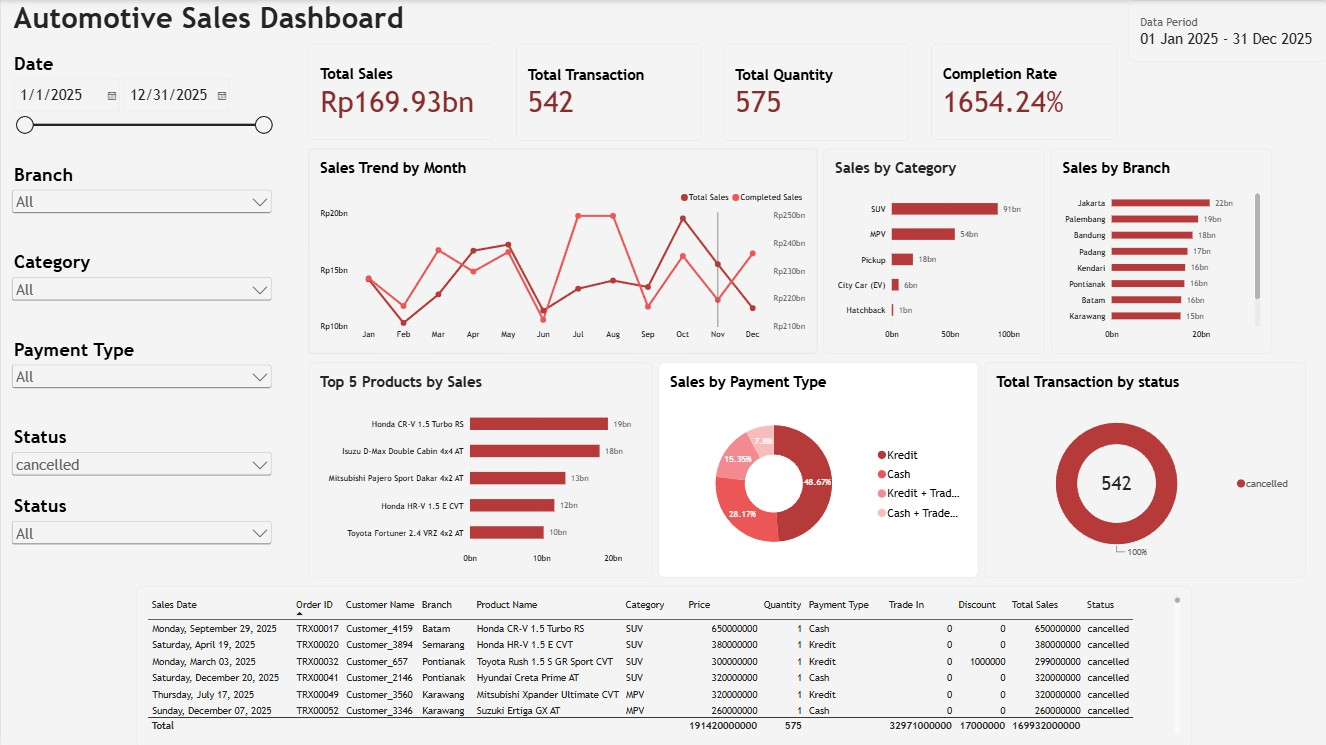

What the dashboard file says about the page in this screenshot:
{"tool":"powerbi","page":{"name":"Page 1","canvas":[1920,1080],"ordinal":0},"visuals":[{"type":"cardVisual","fields":{"Data":["_Measures.Total Sales"]},"box":[445.2,63.3,269.6,139.3],"z":0},{"type":"cardVisual","fields":{"Data":["_Measures.Total Quantity"]},"box":[1046,63.3,269.6,141.2],"z":1000},{"type":"cardVisual","fields":{"Data":["_Measures.Completion Rate"]},"box":[1346.4,63.3,269.6,139.3],"z":2000},{"type":"cardVisual","fields":{"Data":["_Measures.Total Transaction"]},"box":[745.6,63.3,269.6,141.2],"z":3000},{"type":"slicer","fields":{"Values":["DateTable.Date"]},"box":[10.9,76,385.5,226.2],"z":4000},{"type":"lineChart","title":"Sales Trend by Month","fields":{"Category":["DateTable.Month"],"Y":["DateTable.Total Sales"],"Y2":["DateTable.Completed Sales"]},"box":[445.2,215.3,736.5,296.8],"z":5000},{"type":"textbox","box":[18.1,0,770.9,90.5],"z":6000},{"type":"barChart","title":"Sales by Category","fields":{"Category":["Sheet1.category"],"Y":["Sum(Sheet1.total_sales)"]},"box":[1190.8,215.3,320.3,296.8],"z":7000},{"type":"barChart","title":"Sales by Branch","fields":{"Category":["Sheet1.branch"],"Y":["Sum(Sheet1.total_sales)"]},"box":[1520.1,215.3,320.3,296.8],"z":8000},{"type":"barChart","title":"Top 5 Products by Sales","fields":{"Category":["Sheet1.product_name"],"Y":["Sum(Sheet1.total_sales)"]},"box":[445.2,524.8,497.7,311.3],"z":9000},{"type":"donutChart","title":"Sales by Payment Type","fields":{"Category":["Sheet1.payment_type"],"Y":["Sum(Sheet1.total_sales)"]},"box":[951.9,524.8,463.3,311.3],"z":10000},{"type":"donutChart","fields":{"Category":["Sheet1.status"],"Y":["DateTable.Total Transaction"]},"box":[1424.2,524.8,465.1,311.3],"z":11000},{"type":"tableEx","fields":{"Values":["Sheet1.sales_date","Sheet1.order_id","Sheet1.customer_name","Sheet1.branch","Sheet1.product_name","Sheet1.category","Sum(Sheet1.price)","Sum(Sheet1.quantity)","Sheet1.payment_type","Sum(Sheet1.trade_in)","Sum(Sheet1.discount)","Sum(Sheet1.total_sales)"]},"box":[195.4,848.7,1529.2,231.6],"z":12000},{"type":"slicer","fields":{"Values":["Sheet1.category"]},"box":[10.9,363.7,385.5,85.1],"z":13000},{"type":"slicer","fields":{"Values":["Sheet1.branch"]},"box":[10.9,237.1,385.5,85.1],"z":14000},{"type":"slicer","fields":{"Values":["Sheet1.payment_type"]},"box":[10.9,490.4,385.5,85.1],"z":15000},{"type":"slicer","fields":{"Values":["Sheet1.status"]},"box":[10.9,617.1,385.5,85.1],"z":16000},{"type":"cardVisual","fields":{"Data":["DateTable.Data Period"]},"box":[1632.3,0,287.7,90.5],"z":17000},{"type":"slicer","fields":{"Values":["Sheet1.customer_name"]},"box":[10.9,716.6,385.5,85.1],"z":18000}]}

Visuals, with their boxes in screenshot pixels (x1, y1, x2, y2), scaled from the page's 1920x1080 canvas onto the 1326x745 screenshot:
cardVisual - _Measures.Total Sales: {"x1": 307, "y1": 44, "x2": 494, "y2": 140}
cardVisual - _Measures.Total Quantity: {"x1": 722, "y1": 44, "x2": 909, "y2": 141}
cardVisual - _Measures.Completion Rate: {"x1": 930, "y1": 44, "x2": 1116, "y2": 140}
cardVisual - _Measures.Total Transaction: {"x1": 515, "y1": 44, "x2": 701, "y2": 141}
slicer - DateTable.Date: {"x1": 8, "y1": 52, "x2": 274, "y2": 208}
"Sales Trend by Month" lineChart: {"x1": 307, "y1": 149, "x2": 816, "y2": 353}
textbox: {"x1": 13, "y1": 0, "x2": 545, "y2": 62}
"Sales by Category" barChart: {"x1": 822, "y1": 149, "x2": 1044, "y2": 353}
"Sales by Branch" barChart: {"x1": 1050, "y1": 149, "x2": 1271, "y2": 353}
"Top 5 Products by Sales" barChart: {"x1": 307, "y1": 362, "x2": 651, "y2": 577}
"Sales by Payment Type" donutChart: {"x1": 657, "y1": 362, "x2": 977, "y2": 577}
donutChart - Sheet1.status x DateTable.Total Transaction: {"x1": 984, "y1": 362, "x2": 1305, "y2": 577}
tableEx - Sheet1.sales_date x Sheet1.order_id: {"x1": 135, "y1": 585, "x2": 1191, "y2": 744}
slicer - Sheet1.category: {"x1": 8, "y1": 251, "x2": 274, "y2": 310}
slicer - Sheet1.branch: {"x1": 8, "y1": 164, "x2": 274, "y2": 222}
slicer - Sheet1.payment_type: {"x1": 8, "y1": 338, "x2": 274, "y2": 397}
slicer - Sheet1.status: {"x1": 8, "y1": 426, "x2": 274, "y2": 484}
cardVisual - DateTable.Data Period: {"x1": 1127, "y1": 0, "x2": 1325, "y2": 62}
slicer - Sheet1.customer_name: {"x1": 8, "y1": 494, "x2": 274, "y2": 553}
